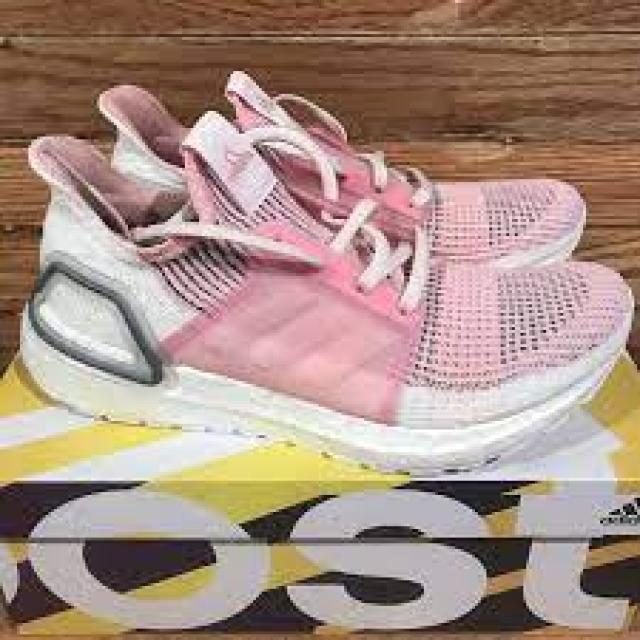shoe: (23, 128, 638, 473)
